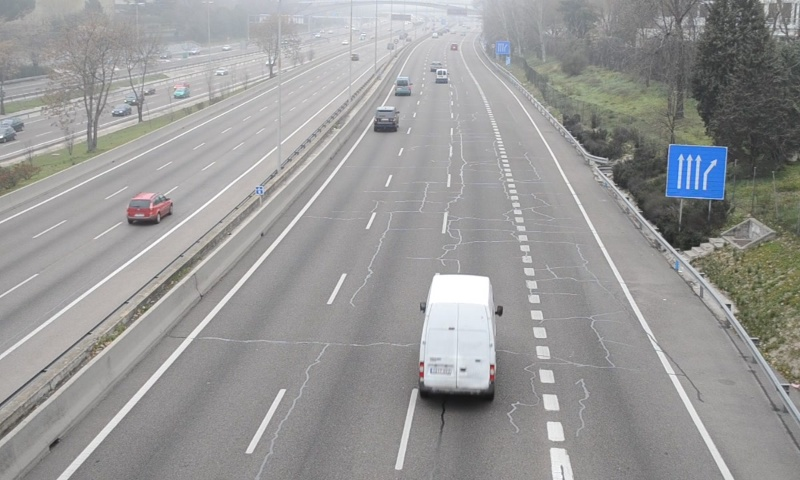car: (373, 106, 400, 133)
van: (417, 274, 496, 400), (395, 76, 412, 94)
